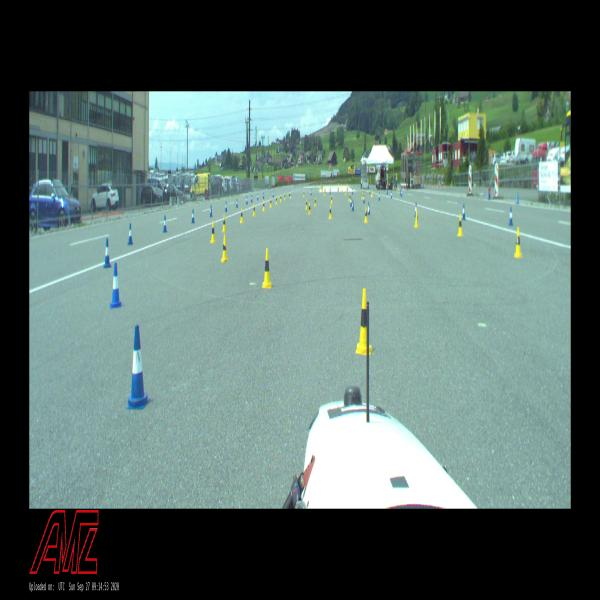blue_cone: (126, 326, 150, 410), (110, 263, 121, 309), (104, 239, 111, 267), (508, 207, 514, 226), (128, 224, 133, 244), (163, 215, 168, 232), (462, 204, 466, 220), (414, 203, 418, 216), (225, 201, 228, 212), (192, 209, 194, 223), (368, 202, 370, 215), (210, 206, 212, 217), (352, 200, 354, 211), (363, 194, 365, 204), (350, 197, 352, 207), (236, 199, 238, 208), (378, 192, 380, 201), (246, 196, 248, 204), (391, 191, 392, 198)
unknown_cone: (516, 191, 519, 204), (487, 188, 490, 199)
yellow_cone: (356, 289, 372, 355), (262, 248, 272, 288), (220, 234, 230, 262), (514, 228, 523, 256), (210, 221, 216, 243), (457, 215, 463, 236), (222, 214, 226, 231), (364, 207, 368, 223), (415, 210, 418, 227), (240, 209, 243, 222), (329, 206, 332, 218), (308, 203, 311, 214), (305, 199, 308, 209), (314, 197, 317, 206), (253, 203, 255, 216), (275, 196, 278, 204), (263, 201, 265, 211), (270, 198, 272, 206), (330, 195, 332, 203), (280, 195, 282, 202), (303, 190, 305, 197), (371, 190, 373, 197), (361, 192, 363, 199), (284, 194, 286, 200)
